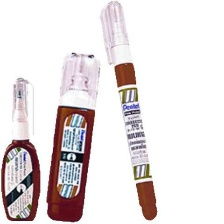correction_fluid: (97, 0, 158, 222), (42, 51, 102, 224), (0, 75, 41, 224)
